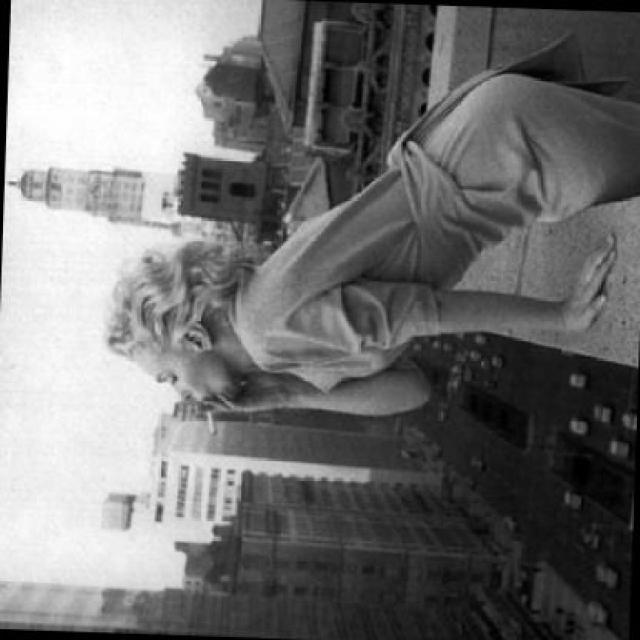cigarette: (201, 402, 221, 438)
